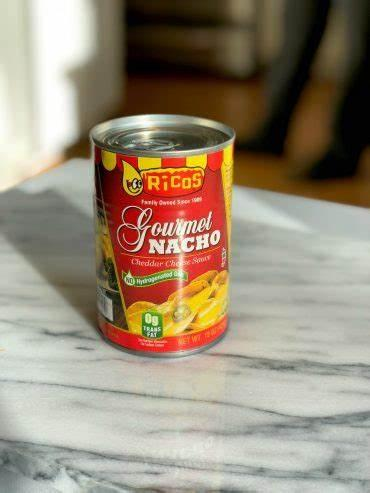metal: (90, 114, 236, 356)
